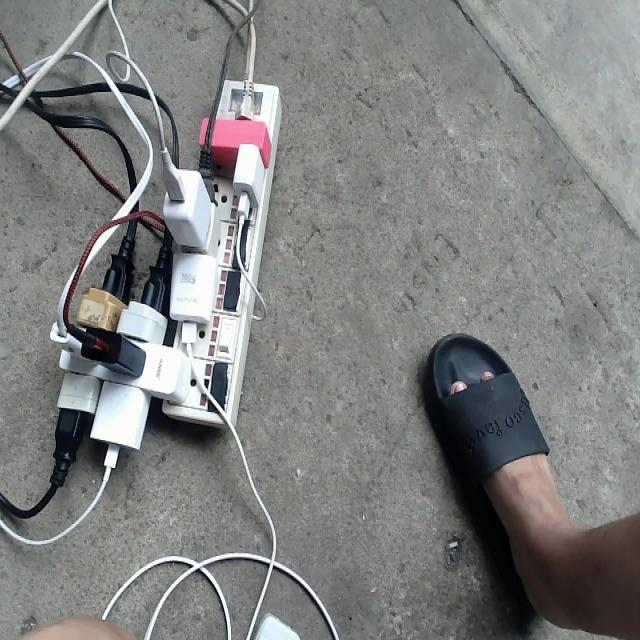-: (48, 75, 280, 524)
